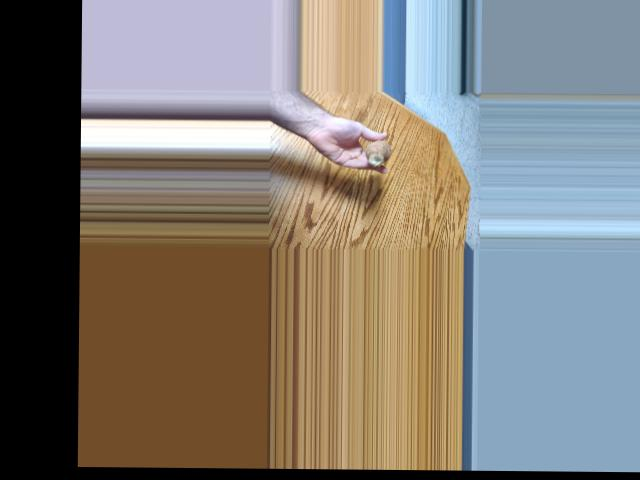sweet_potato: (365, 139, 393, 164)
